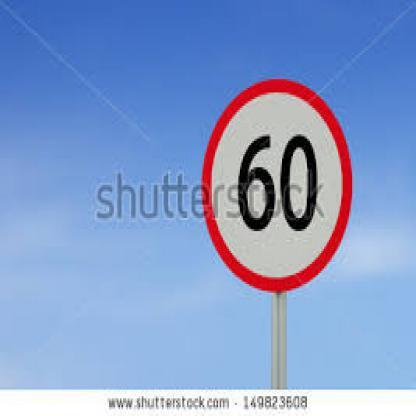Speed Limit 60: (203, 80, 351, 291)
